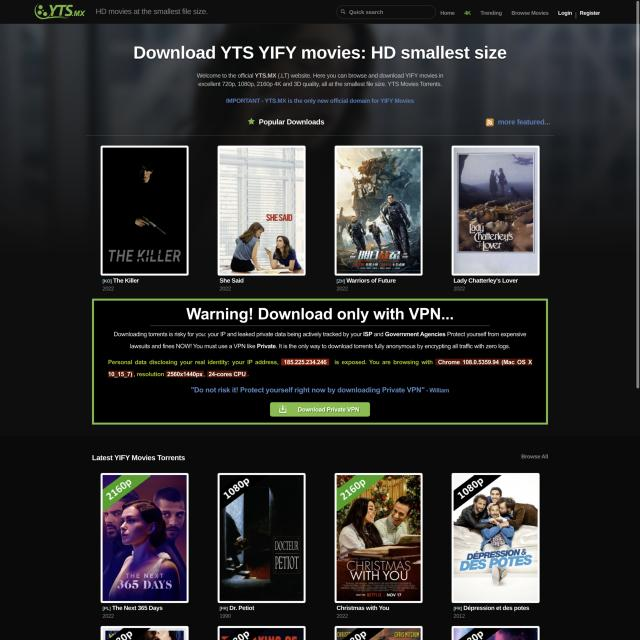CheckBox: (521, 453, 549, 461), (579, 9, 602, 17), (558, 9, 573, 17)
CheckedTextView: (336, 4, 437, 20)
Input field: (195, 71, 446, 89)
ProgressBar: (91, 298, 548, 424)
bag: (0, 0, 640, 24)
breadcrumbs: (91, 453, 186, 462)
carousel: (340, 8, 346, 15)
copy: (217, 145, 306, 275), (451, 146, 540, 276), (334, 145, 422, 275), (101, 145, 188, 276)
data feed: (349, 9, 384, 16)
date picker: (34, 3, 88, 21)
decoration: (440, 9, 550, 17)
image: (133, 45, 507, 61)
